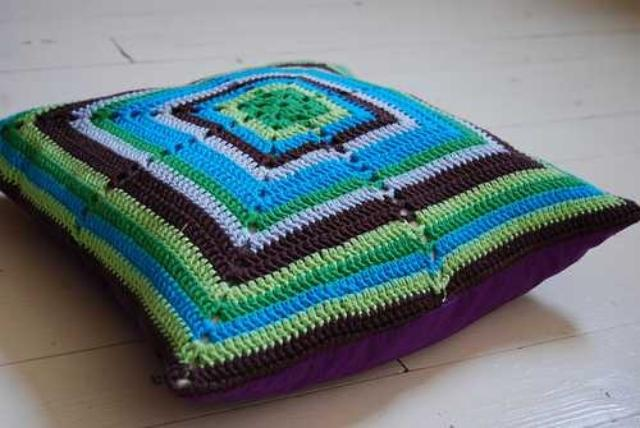pillow: (0, 59, 638, 403)
